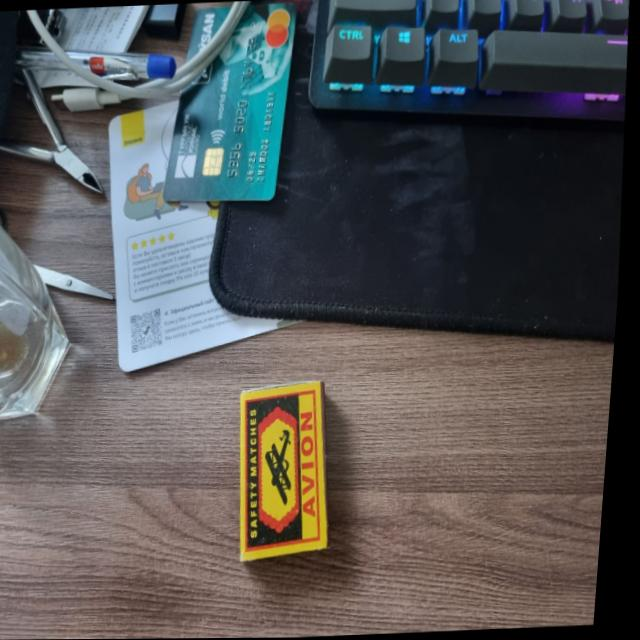match: (234, 378, 352, 571)
